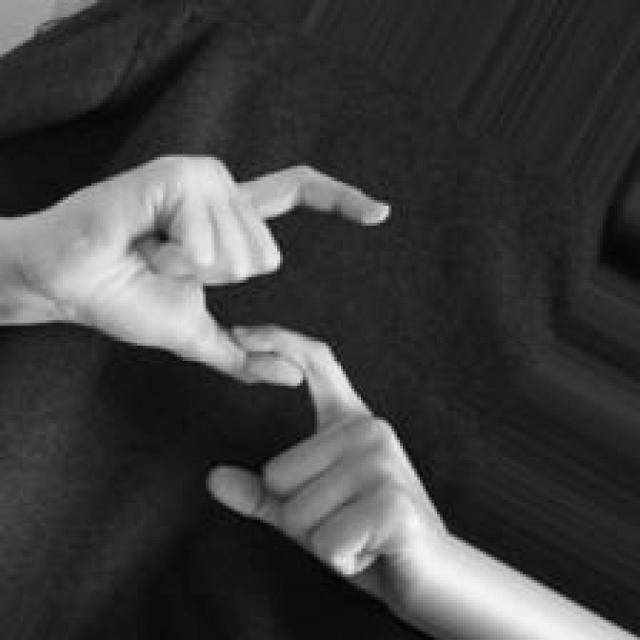S: (0, 151, 446, 640)
